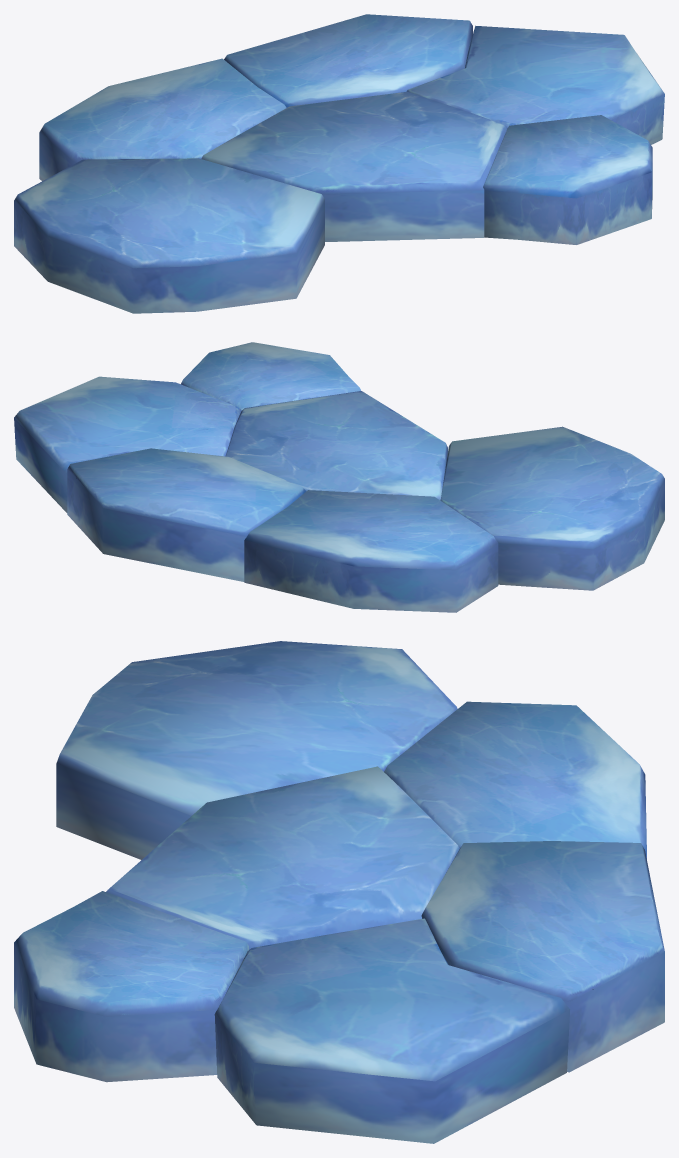
File: Map_10_ice07.FBX
3 renders of one model, top to bottom at view 1: azimuth 30°, elevation 25°; view 2: azimuth 150°, elevation 25°; view 3: azimuth 270°, elevation 25°, orthographic. The views are drawn at different scales.
Visible parts, largest first — view 1: Map_10_ice07; view 2: Map_10_ice07; view 3: Map_10_ice07.
Part boxes in pixels (x1=…): Map_10_ice07: x1=14, y1=14, x2=664, y2=313; Map_10_ice07: x1=14, y1=342, x2=664, y2=612; Map_10_ice07: x1=14, y1=641, x2=664, y2=1143.
Size of the model in its own units: 1453 by 124 by 922.
Materials: 1 (1 with a texture image).
